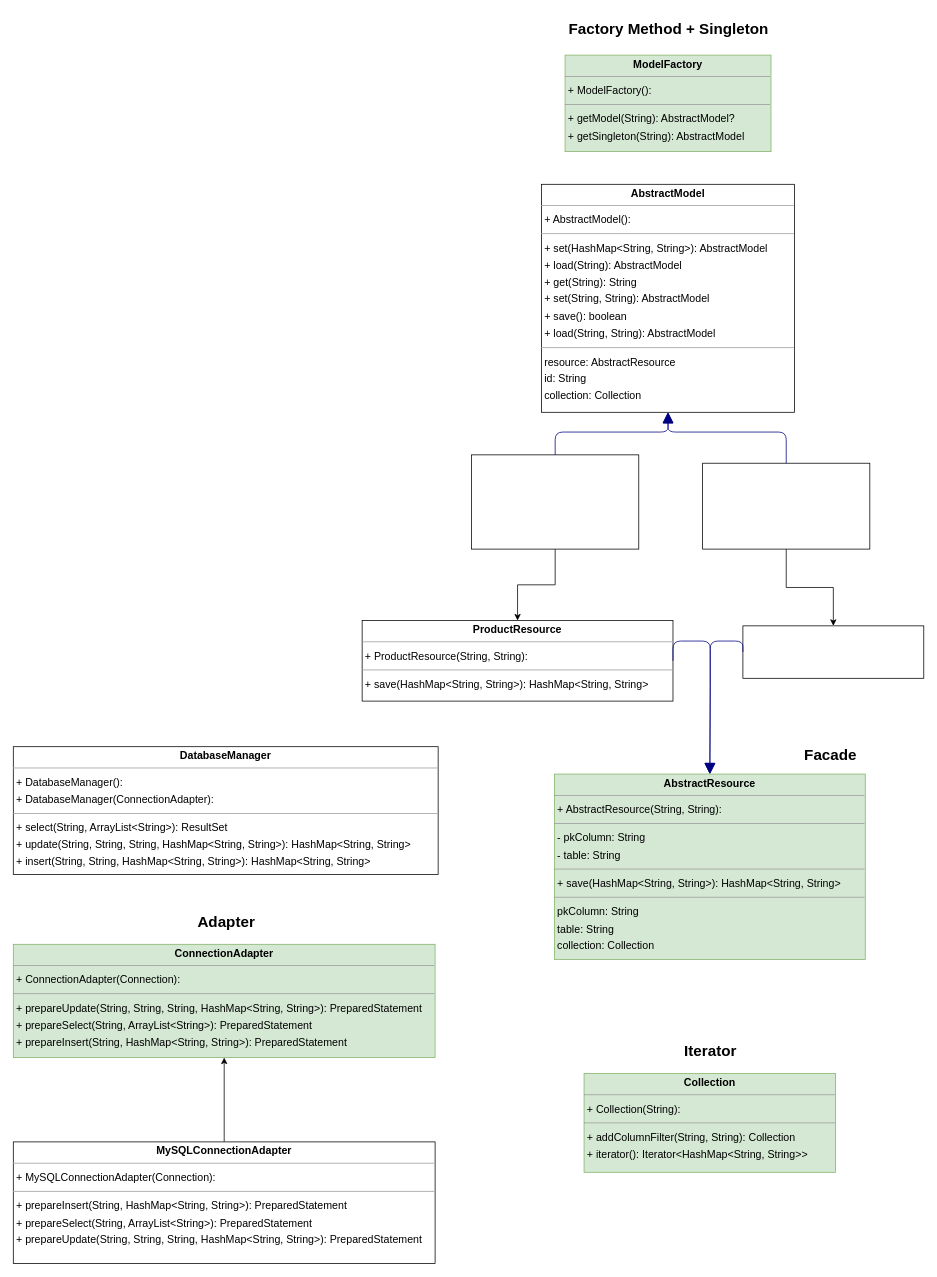
Some shapes in this 937 by 1277 pixel diagram are drawn without their labels. Here are the shapes that lost their labels. From the top down, the box of each, then its label:
(471, 454, 639, 549): ProductModel + ProductModel(): resource: AbstractResource stock: StockModel
(702, 462, 870, 549): StockModel + StockModel(): resource: AbstractResource
(742, 625, 924, 678): StockResource + StockResource(String, String):
